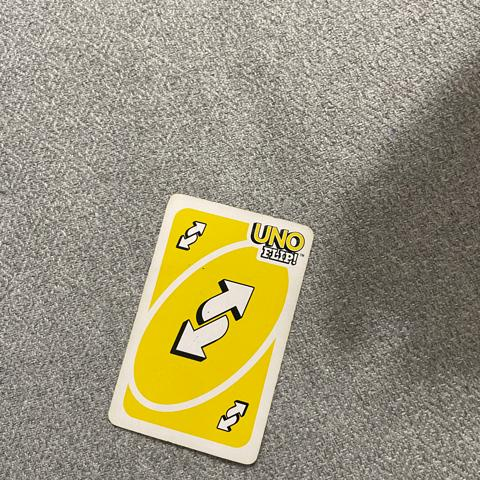draw2_yellow: (161, 275, 263, 361), (210, 395, 252, 436), (172, 218, 213, 252)
